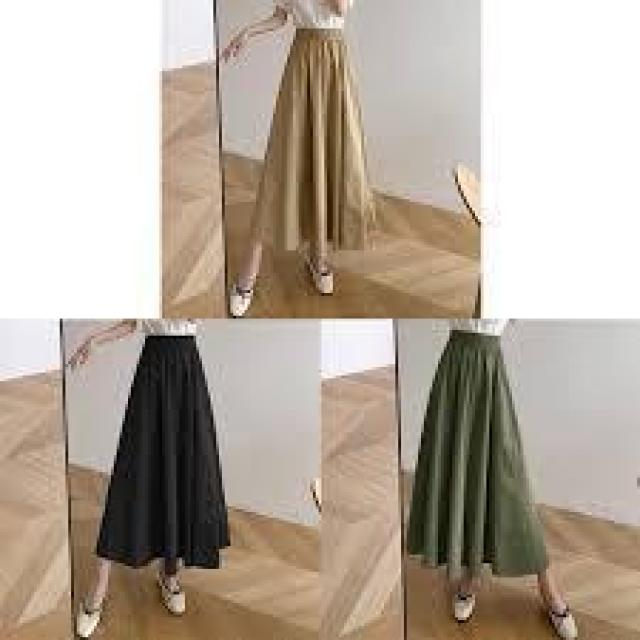skirt: (88, 326, 242, 587), (411, 327, 553, 592), (243, 14, 388, 259)
